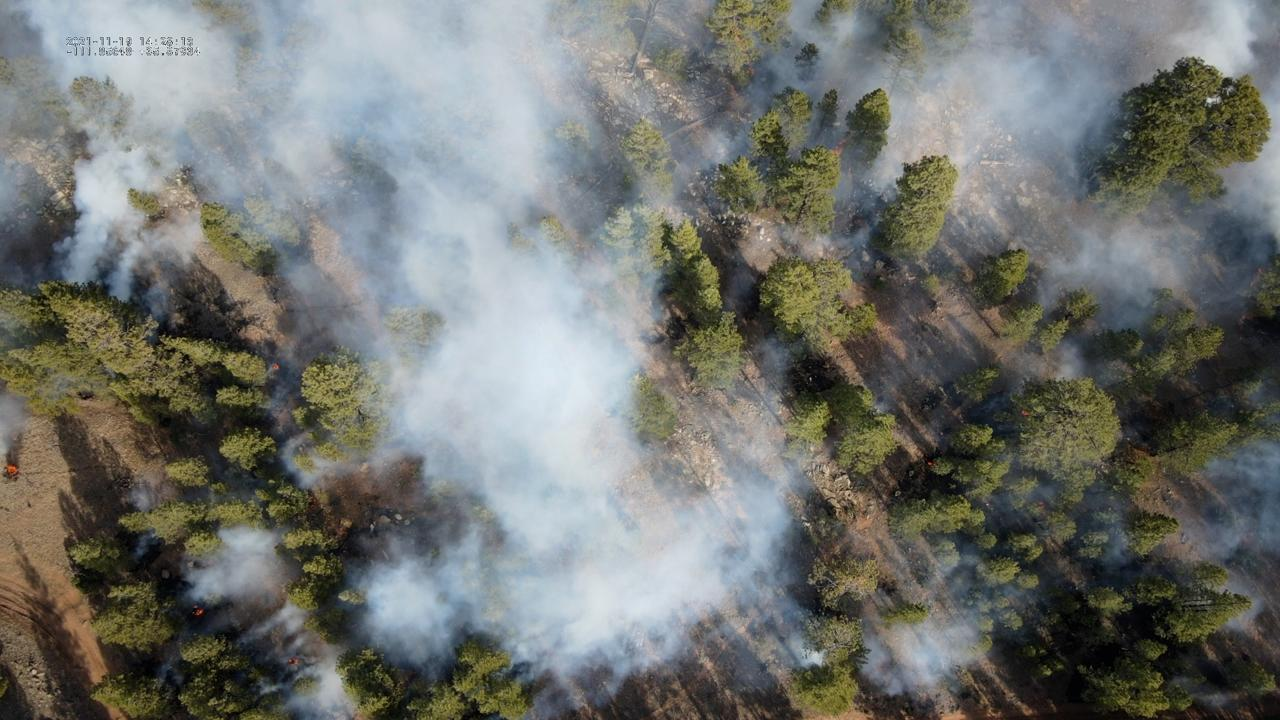fire: (190, 604, 205, 617), (831, 142, 845, 154), (6, 464, 17, 476), (286, 656, 300, 665), (1020, 409, 1030, 416), (272, 363, 280, 370), (927, 461, 933, 466)
smoke: (0, 0, 1280, 720)
